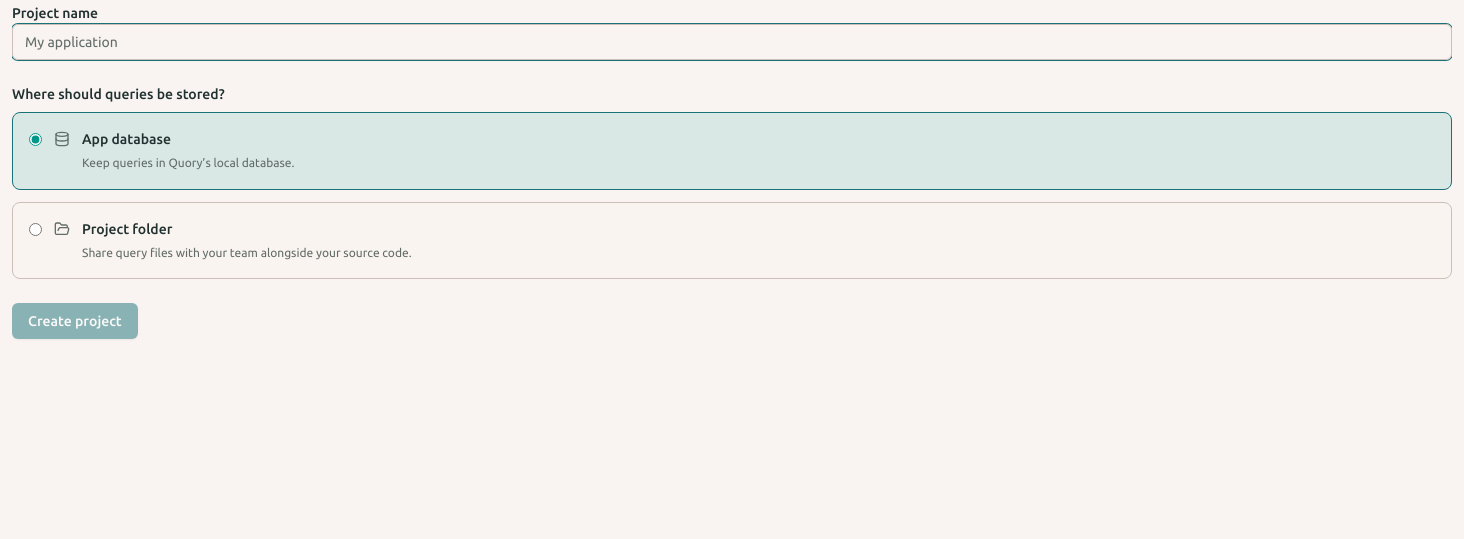
Scenario: preserves a typed path when browsing is cancelled and displays file errors
The width and height of the screenshot is (1464, 539).
In the field labelled "Project name": [732, 42] box [12,24,1452,60], type "Team app"
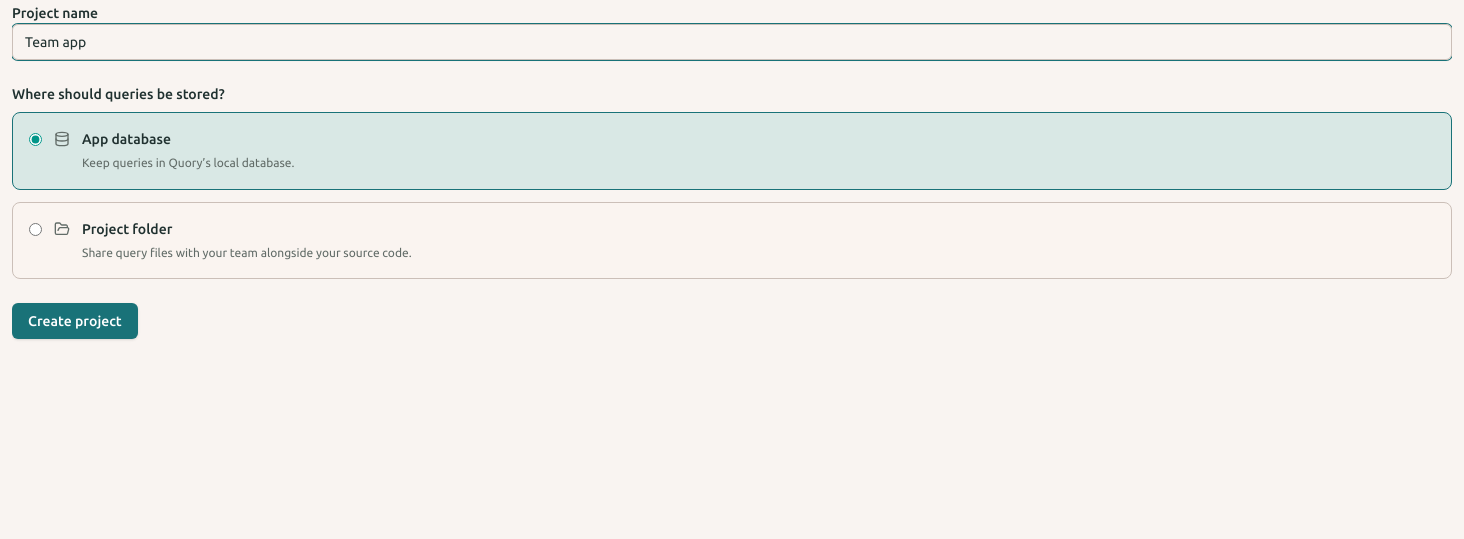
Click the radio button labelled "Project folder": [36, 229] box [29,222,42,236]
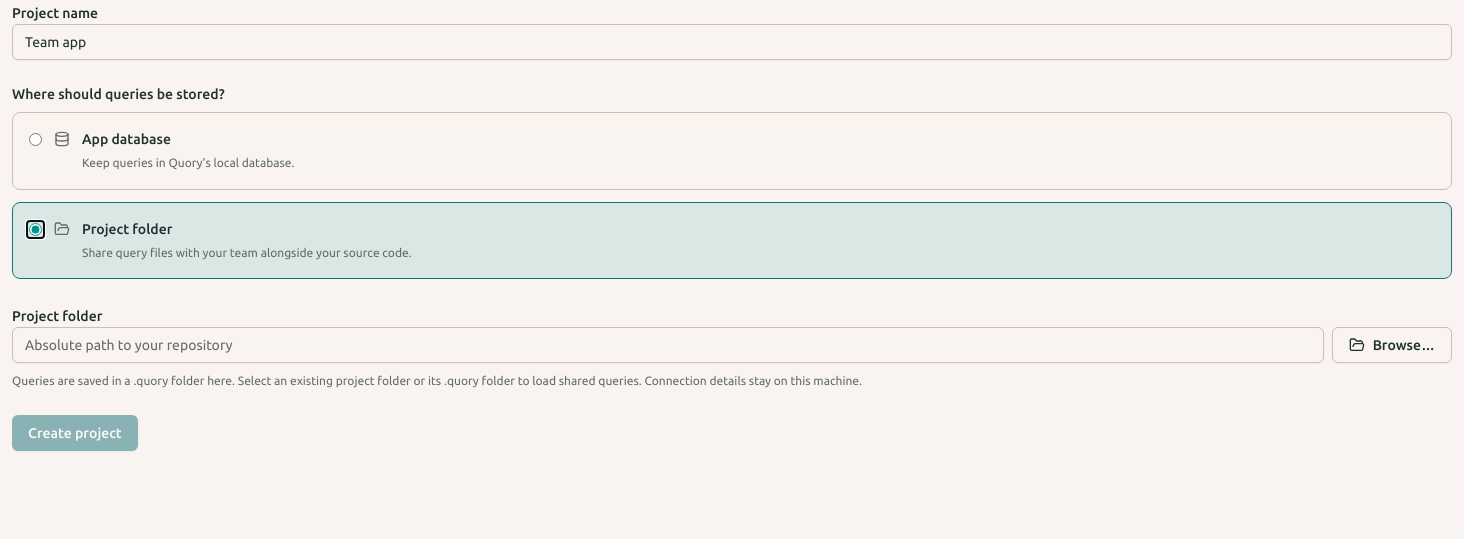
In the field labelled "Project folder": [668, 345] box [12,327,1324,363], type "/repo"
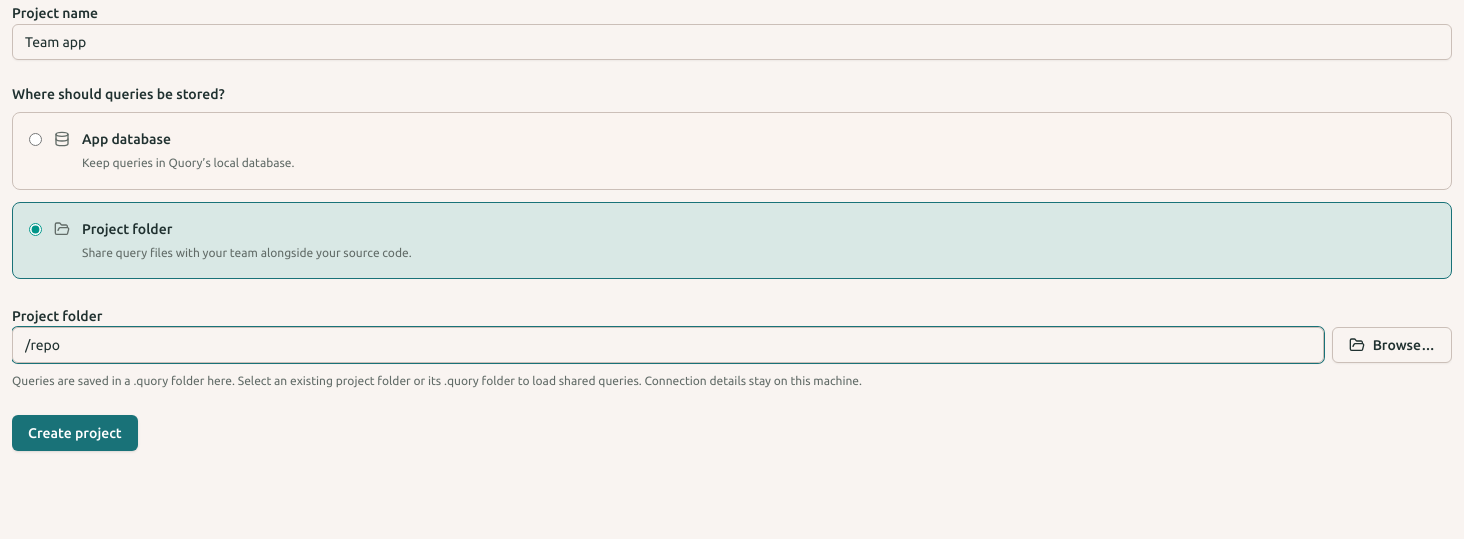
Click the button "Browse…": [1392, 345] box [1332,327,1452,363]
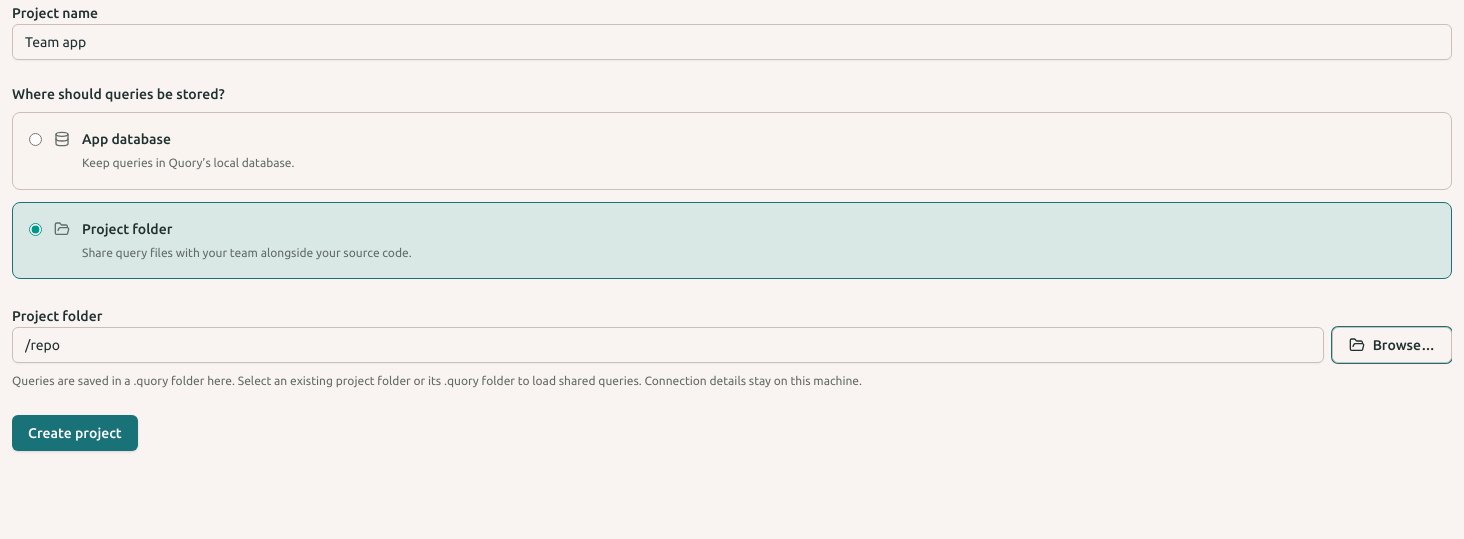
Click the button "Create project": [75, 432] box [12,414,138,450]
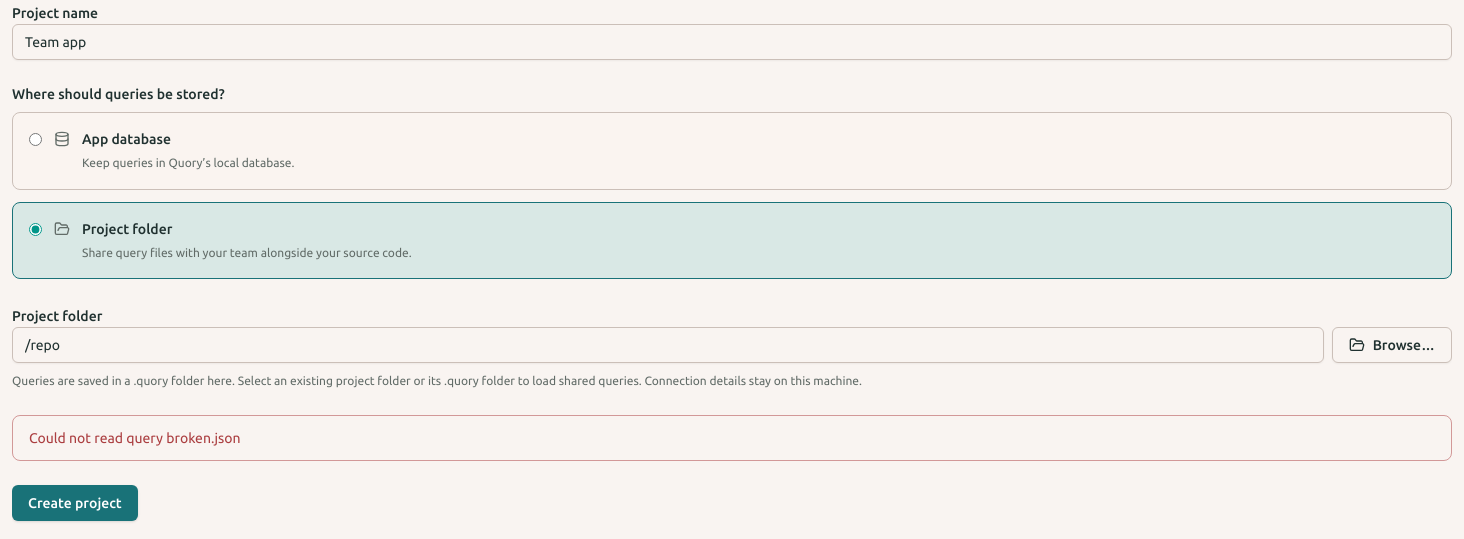
Now the message shows "broken.json", box [29,430,240,446]
